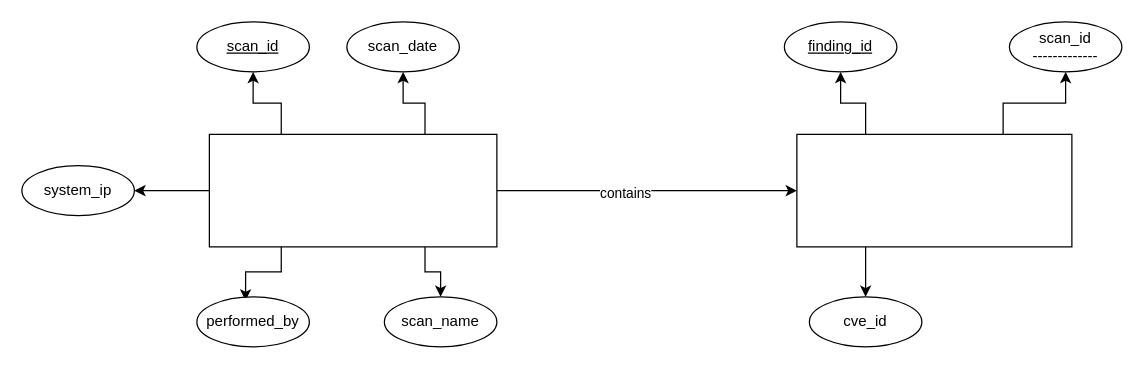
Some shapes in this 1144 by 369 pixel diagram are drawn without their labels. The centre of each missing label's shape, as x and y in pixels:
"findings" belongs at (x=934, y=190).
"Scans" belongs at (x=352, y=190).
